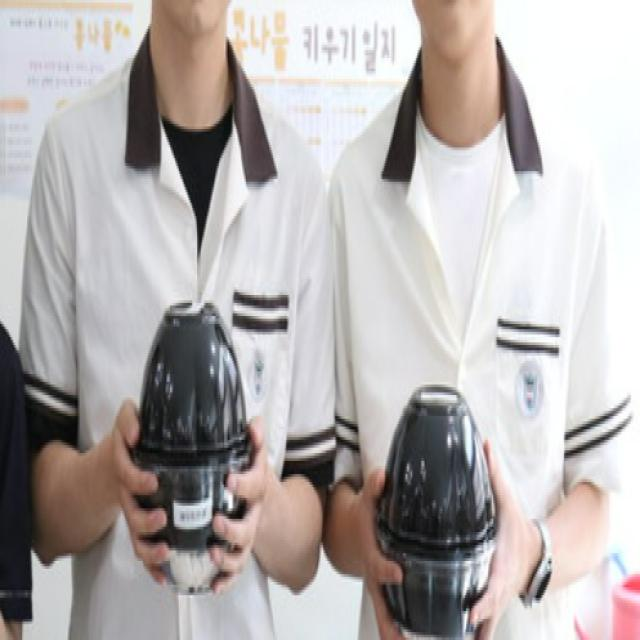logo: (514, 358, 547, 429), (247, 346, 271, 396)
